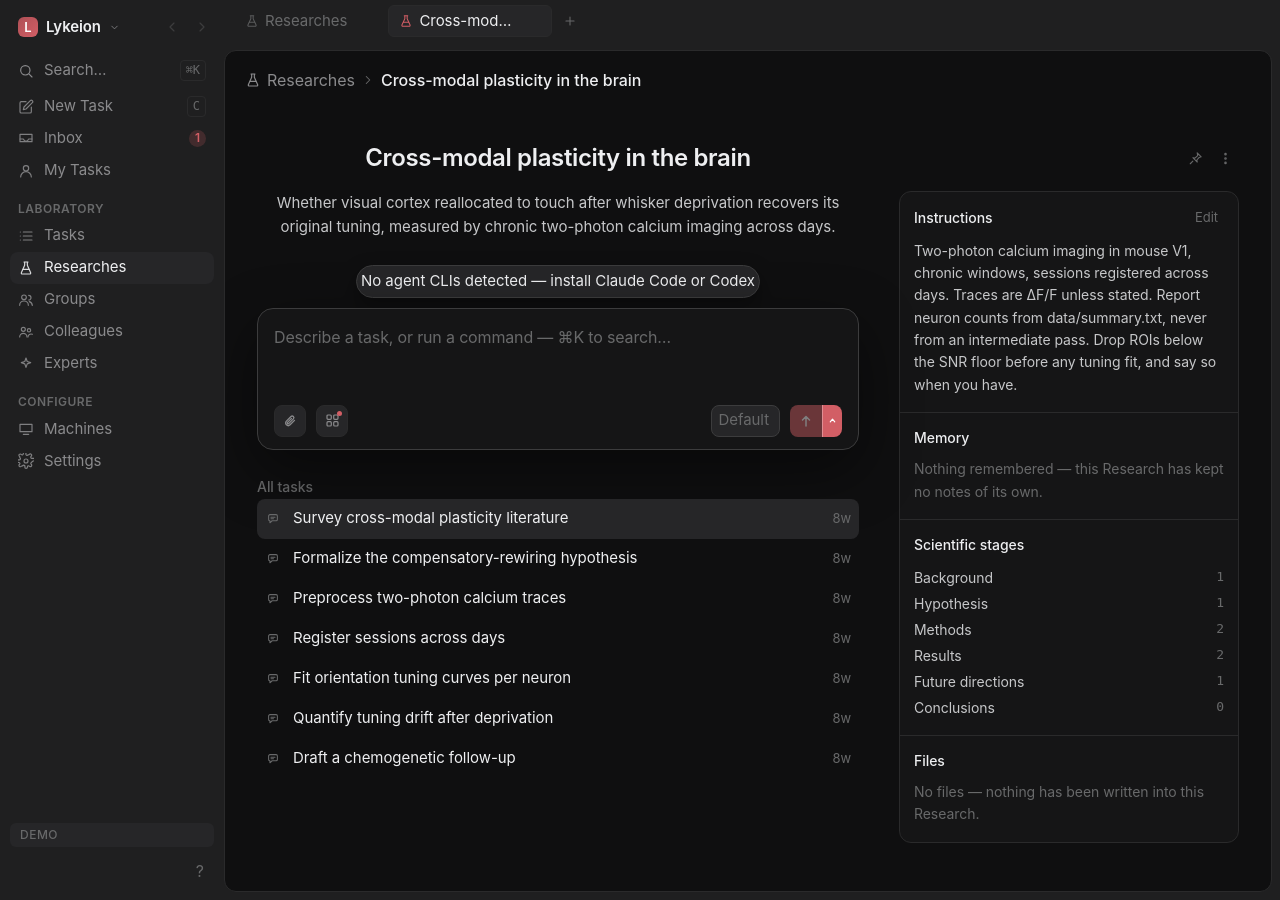
it: the Research's head actions › pins the Research, and says so by offering to unpin it
What coordinates should you click on to do the following:
click the button named "Pin research"
I would click on:
 (1195, 158)
Its box is [1181,144,1209,172].
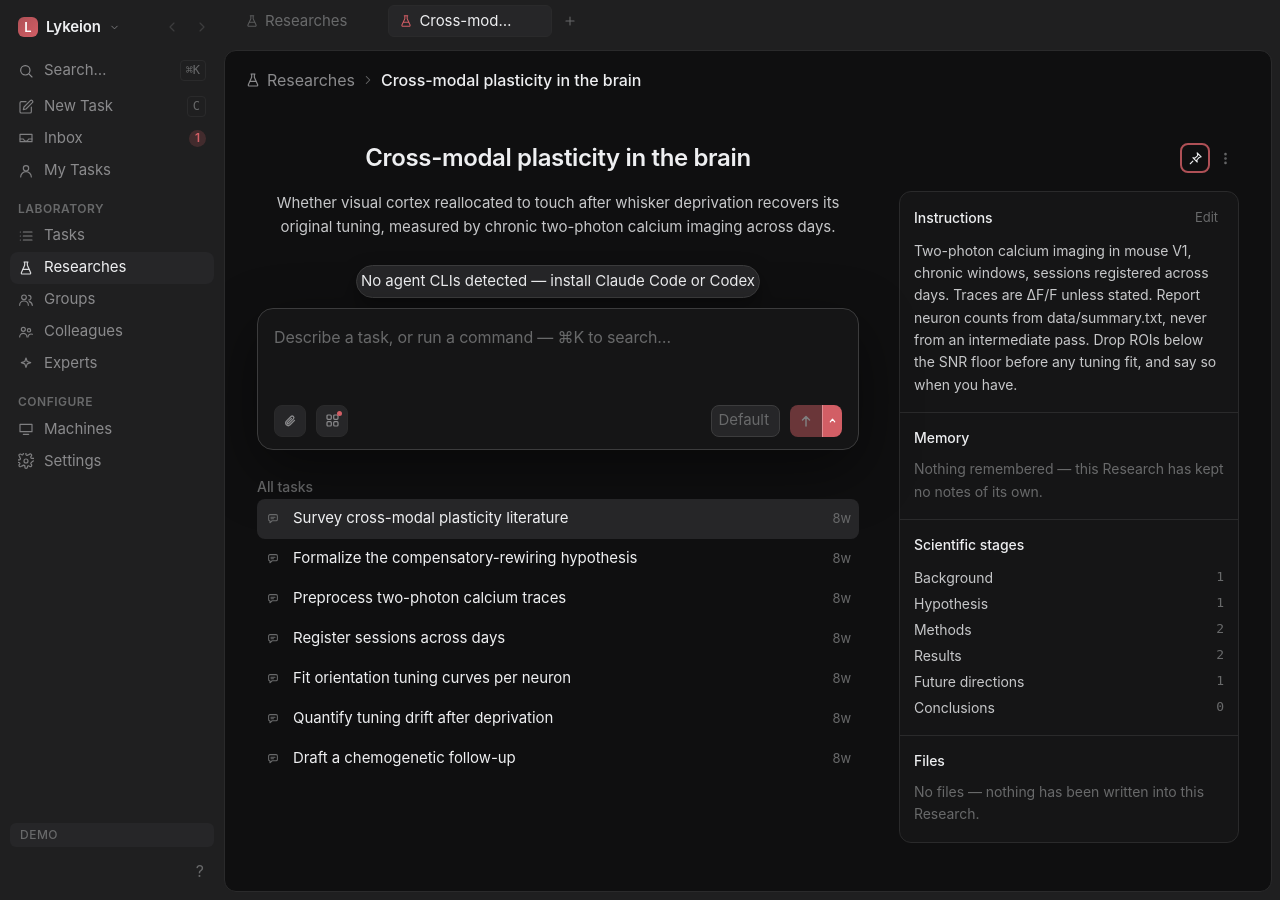
Expected: the button named "Unpin research" is shown, [1181,144,1209,172]
